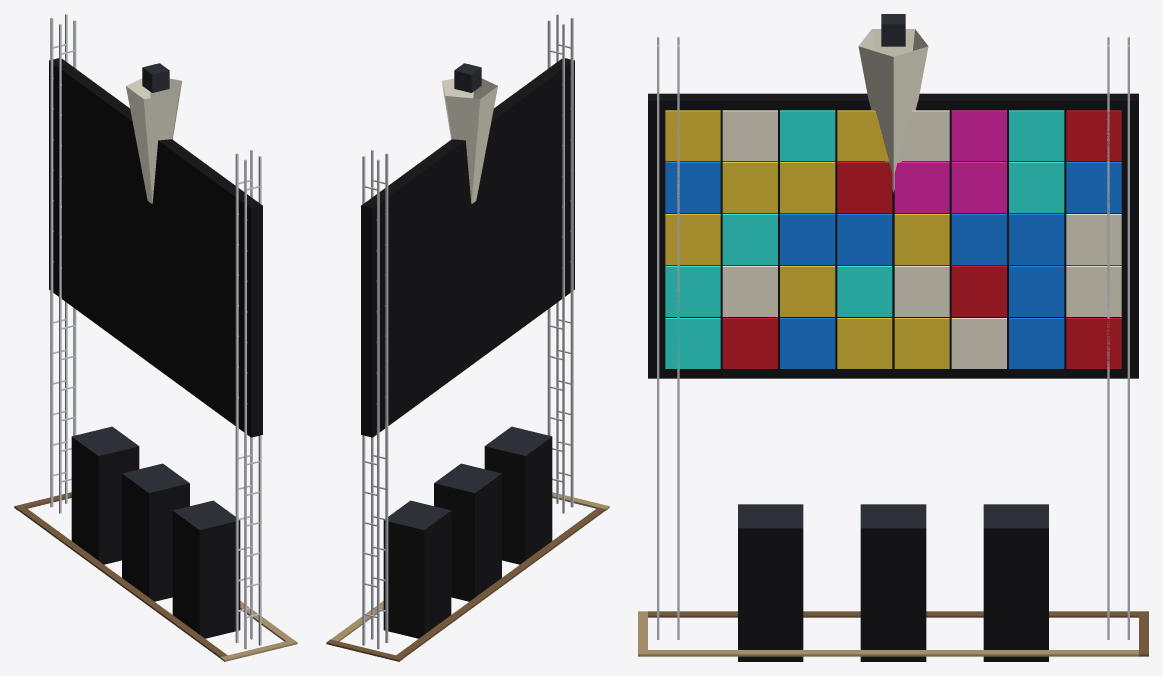
File: pantalla_concierto.obj
The picture shows the model from 3 angles, left to right: view 1: azimuth 30°, elevation 25°; view 2: azimuth 150°, elevation 25°; view 3: azimuth 270°, elevation 25°; orthographic projection. The views are drawn at different scales.
Parts seen in each view (by area): view 1: pantalla_concierto; view 2: pantalla_concierto; view 3: pantalla_concierto.
Boxes of the visible parts, x1,y1,x2,y2 form: pantalla_concierto: (14,14,297,661); pantalla_concierto: (326,14,609,661); pantalla_concierto: (638,14,1148,661).
Bounding box in the file's own units: 2.5 × 17 × 12.48.
